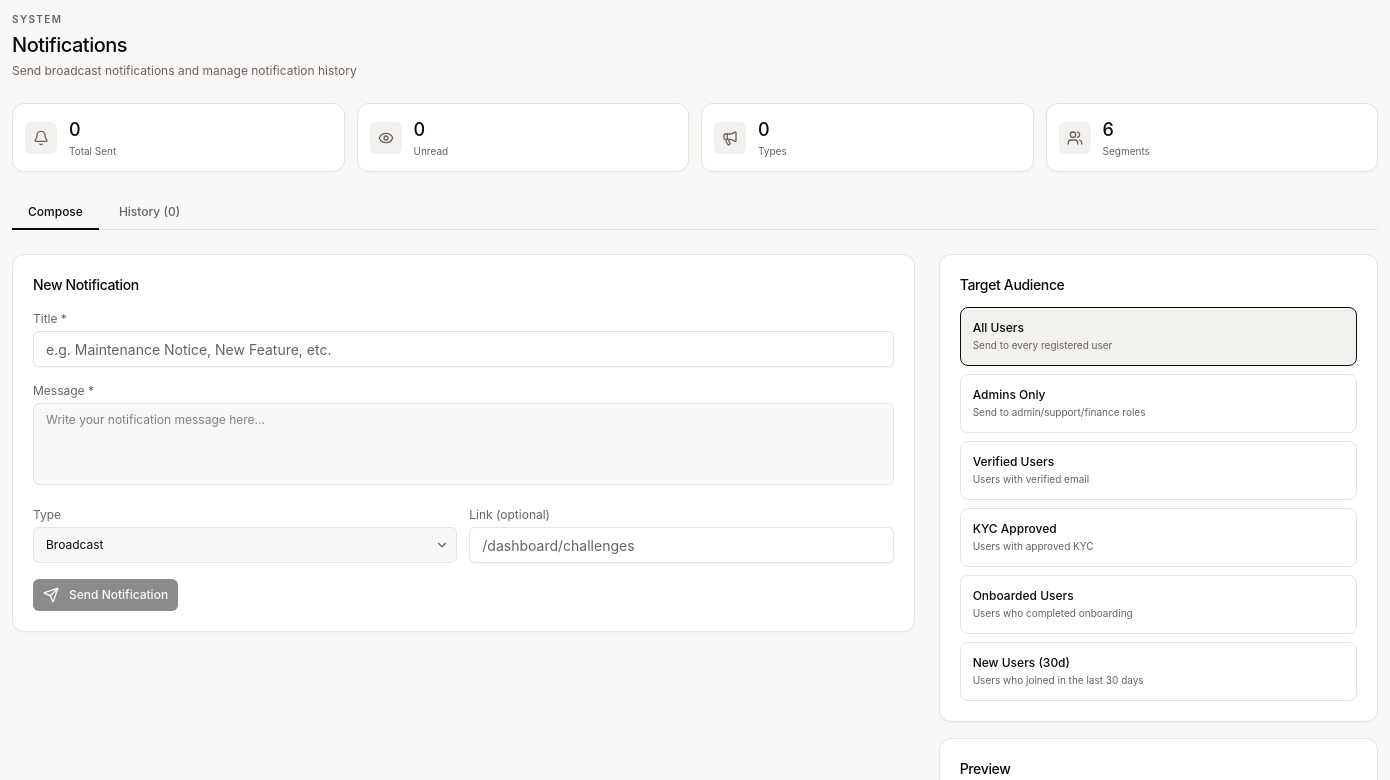
Test case: AdminNotifications Page › History Tab › shows empty state
The width and height of the screenshot is (1390, 780).
Click the button "History (0)" at (150, 213), box [103,196,196,230]
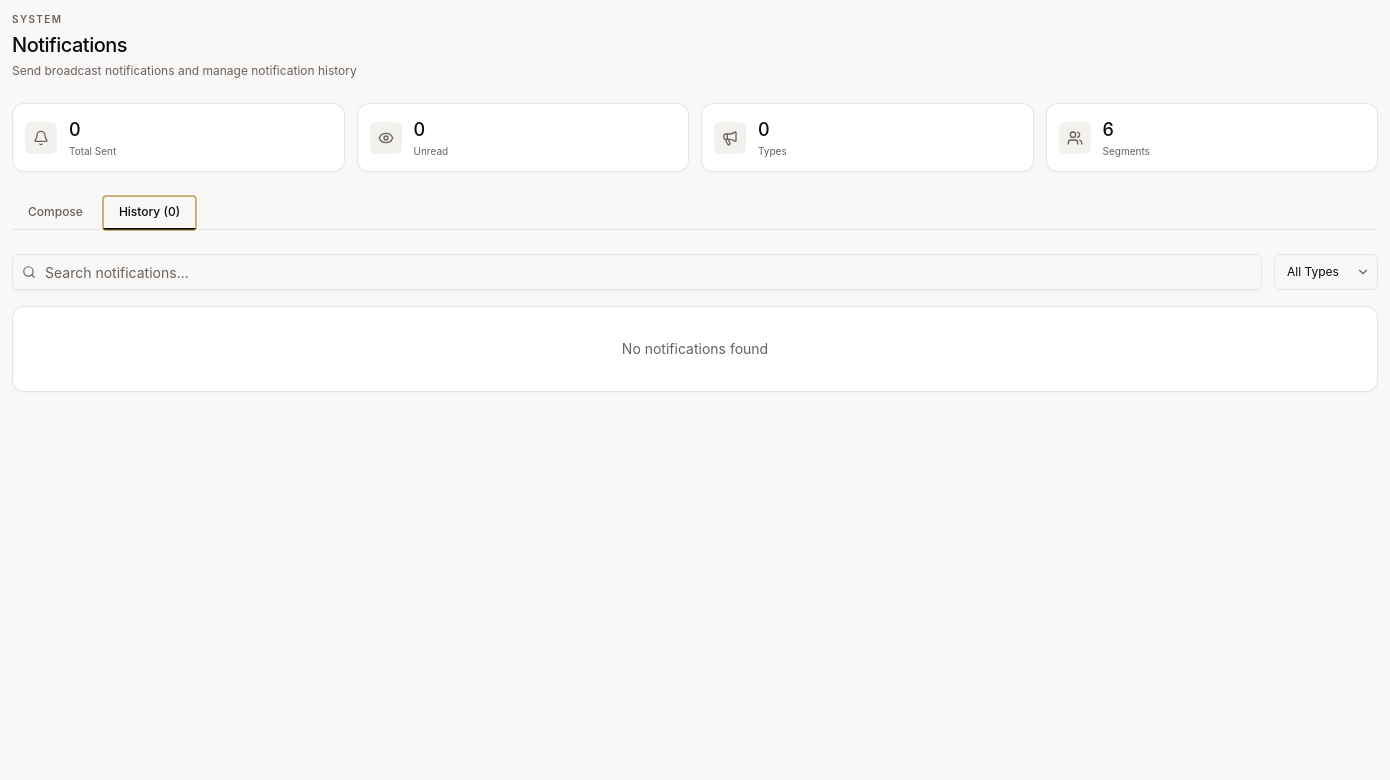
Now the text "No notifications found" is shown, box [12,306,1378,392]
